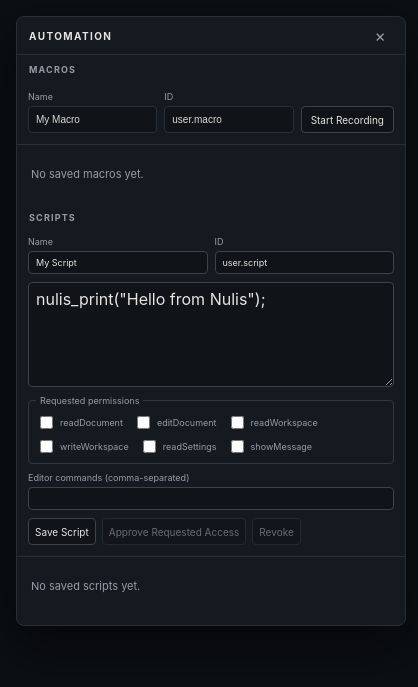
Test: saves, explicitly approves, and runs a sandboxed script
Expected: the text "No saved scripts yet." is shown, [31,579,140,593]
Replace the text in the field named "Script name" with "Hello". click: {"x": 118, "y": 262}
box: [28,251,208,274]
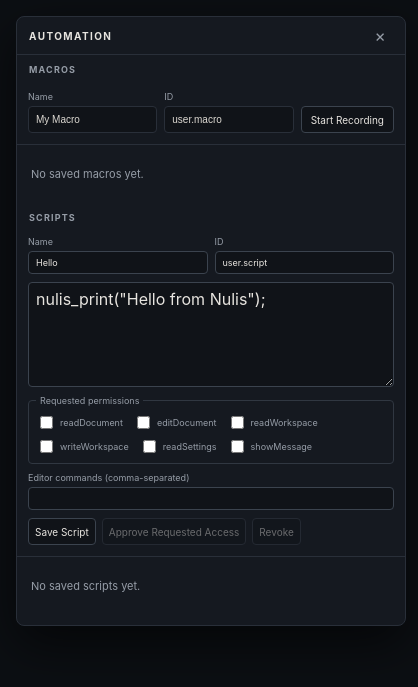
Replace the text in the field named "Script ID" with "user.hello". click: {"x": 304, "y": 262}
box: [214,251,394,274]
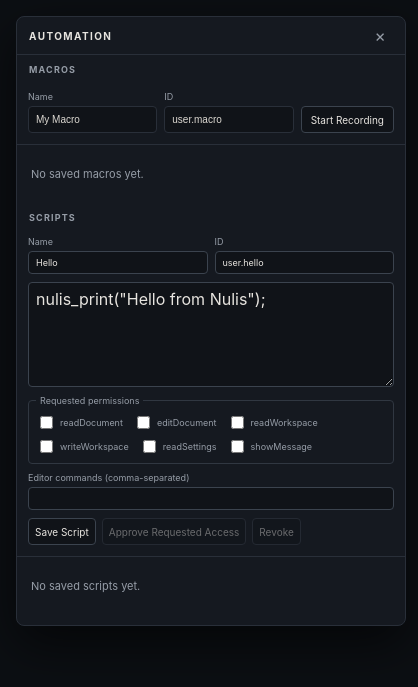
Replace the text in the text box named "Script source" with "nulis_print(\"hello\");". click: {"x": 211, "y": 334}
box: [28,282,394,387]
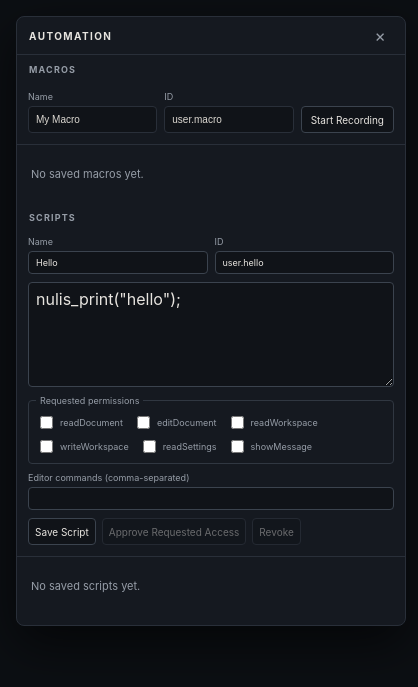
Click the button "Save Script". click: {"x": 62, "y": 532}
box: [28,518,96,545]
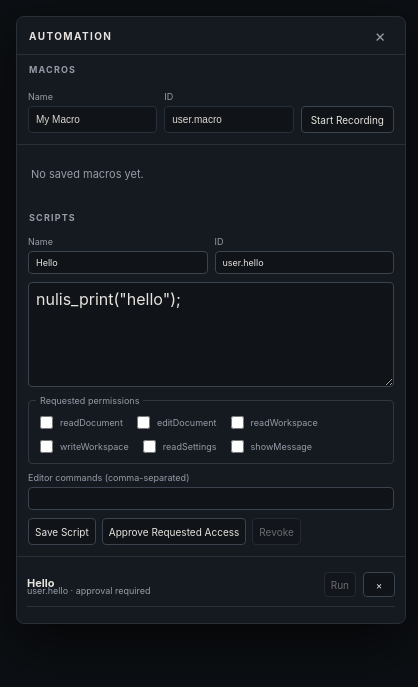
Expected: the text "user.hello · approval required" is shown, [27,584,150,596]
Click the button "Approve Requested Access". click: {"x": 174, "y": 532}
box: [102,518,246,545]
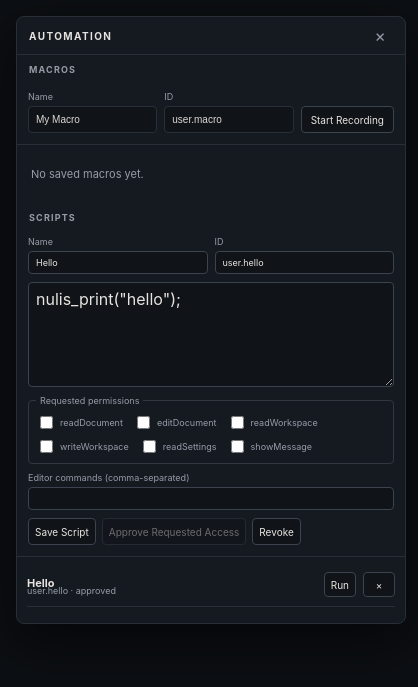
Expected: the button with aria-label "Run script Hello" is enabled
Click the button with aria-label "Run script Hello". click: {"x": 340, "y": 584}
box: [324,572,356,597]
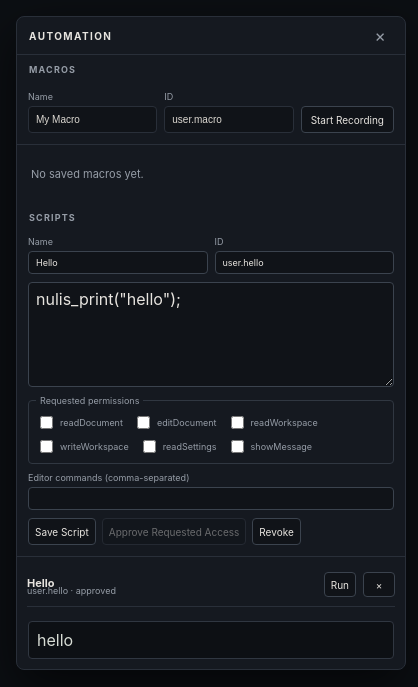
Expected: the text named "Script output" reads "hello", [37,630,73,650]
